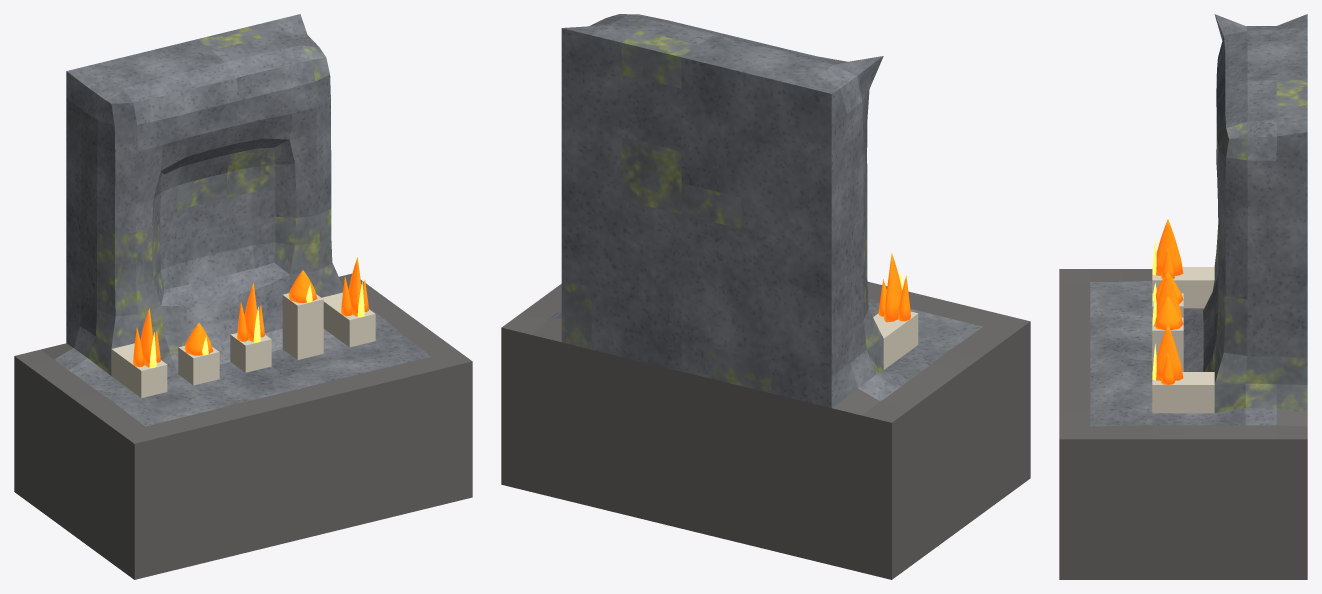
File: landmark_shrine_candles.glb
The picture shows the model from 3 angles, left to right: view 1: azimuth 30°, elevation 25°; view 2: azimuth 150°, elevation 25°; view 3: azimuth 270°, elevation 25°; orthographic projection. The views are drawn at different scales.
Visible parts, largest first — view 1: wilds_landmark_shrine_candles; view 2: wilds_landmark_shrine_candles; view 3: wilds_landmark_shrine_candles.
Boxes of the visible parts, left/top/right/bottom form: wilds_landmark_shrine_candles: left=14, top=14, right=472, bottom=579; wilds_landmark_shrine_candles: left=501, top=14, right=1030, bottom=579; wilds_landmark_shrine_candles: left=1059, top=14, right=1307, bottom=579.
Bounding box in the file's own units: 0.8125 × 0.9375 × 0.5.
5 materials, 1 textured.
